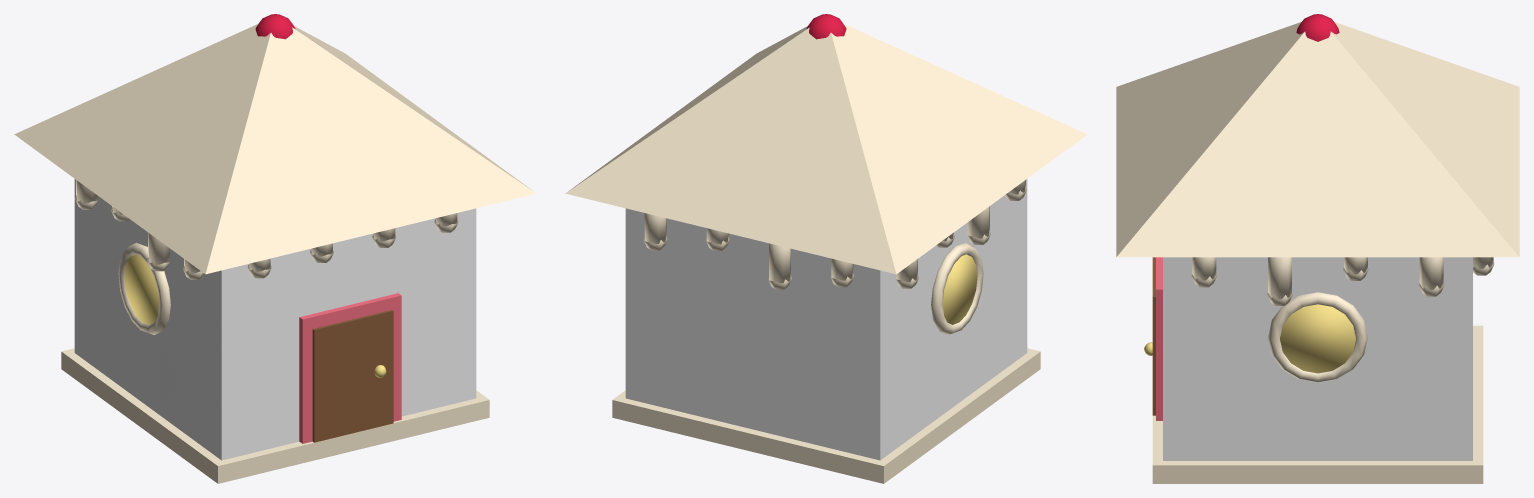
File: booth.glb
The picture shows the model from 3 angles, left to right: view 1: azimuth 30°, elevation 25°; view 2: azimuth 150°, elevation 25°; view 3: azimuth 270°, elevation 25°; orthographic projection. The views are drawn at different scales.
Parts seen in each view (by area): view 1: booth; view 2: booth; view 3: booth.
Part boxes in pixels (x1,y1,x2,y2): booth: (14,14,536,483); booth: (565,14,1087,483); booth: (1116,14,1519,483).
Bounding box in the file's own units: 2.34 × 2.55 × 2.34.
2 materials, 1 textured.
